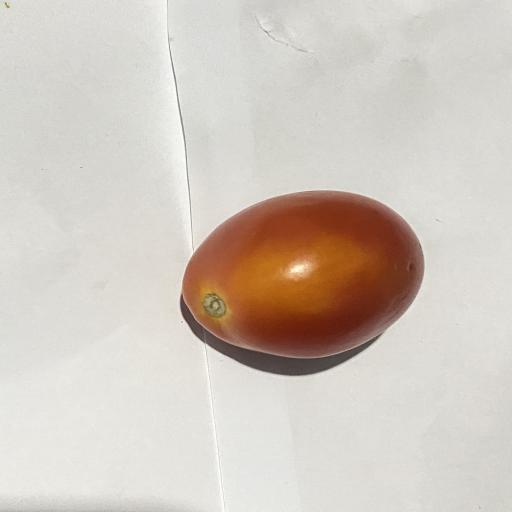ripe: (182, 191, 424, 358)
